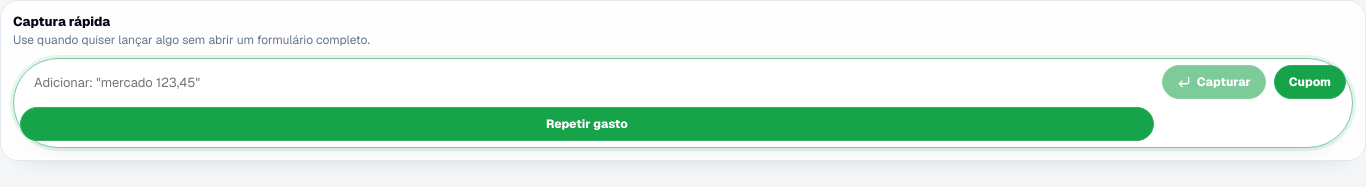
QuickCaptureBar › clears the current value when the reset signal changes
Type "cartao 200" into the field with placeholder "Adicionar: \"mercado 123,45\"".
click(587, 82); type("cartao 200")  # box [20, 65, 1154, 99]
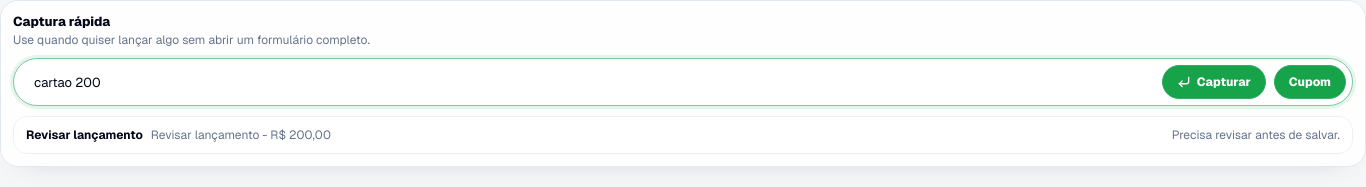
Now the text "Revisar lançamento" is shown, box [26, 127, 143, 143]
